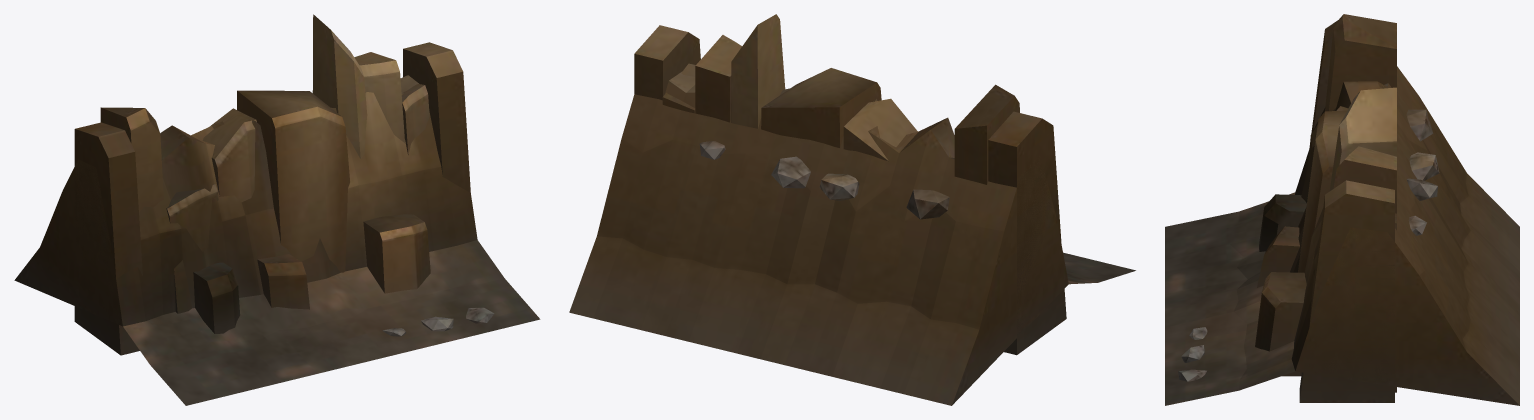
The model's file is cliff-sides-1.glb.
3 views of the same model, side by side, from view 1: azimuth 30°, elevation 25°; view 2: azimuth 150°, elevation 25°; view 3: azimuth 270°, elevation 25° (orthographic). The views are drawn at different scales.
Visible parts, largest first — view 1: cliff-sides-1; view 2: cliff-sides-1; view 3: cliff-sides-1.
Boxes of the visible parts, x1,y1,x2,y2 form: cliff-sides-1: [14, 14, 540, 405]; cliff-sides-1: [569, 14, 1135, 405]; cliff-sides-1: [1165, 14, 1519, 405].
Bounding box in the file's own units: 4 × 2.71 × 3.35.
3 materials, 3 textured.
